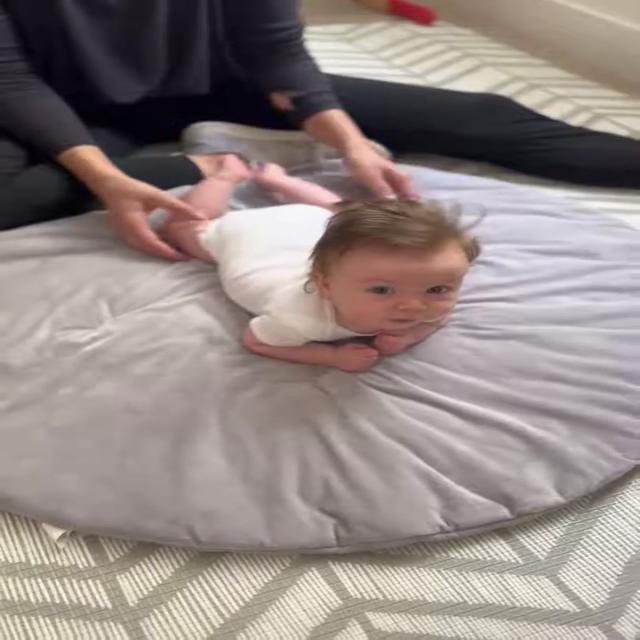baby: (160, 145, 489, 370)
